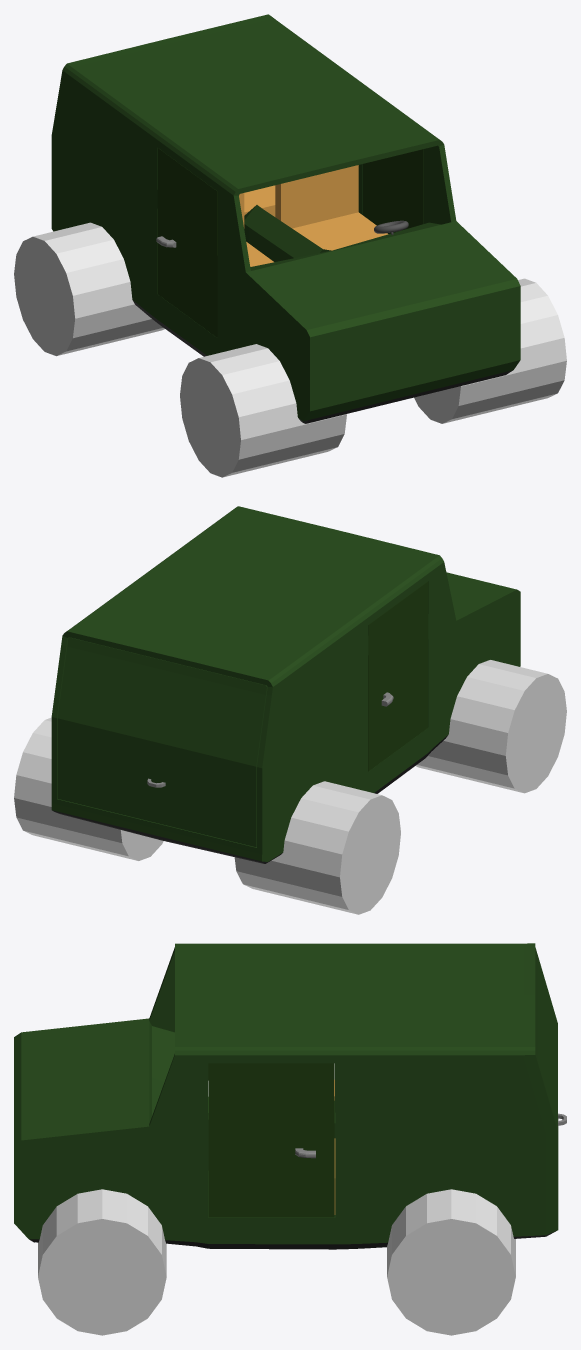
Rendered from GrayboxCar.fbx.
The picture shows the model from 3 angles, top to bottom: view 1: azimuth 30°, elevation 25°; view 2: azimuth 150°, elevation 25°; view 3: azimuth 270°, elevation 25°; orthographic projection. The views are drawn at different scales.
Parts seen in each view (by area): view 1: Car, DoorGapRight, DoorRight, DoorGapLeft, DoorLeft; view 2: Car, Trunk, DoorGapRight, DoorRight, DoorGapLeft; view 3: Car, DoorGapLeft, DoorLeft, Trunk.
Part boxes in pixels (<box>): Car: <box>51,14,520,423</box>; DoorGapRight: <box>14,222,346,477</box>; DoorRight: <box>156,148,217,337</box>; DoorGapLeft: <box>414,278,566,423</box>; DoorLeft: <box>363,149,423,233</box>; Car: <box>51,506,520,863</box>; Trunk: <box>57,637,267,846</box>; DoorGapRight: <box>234,660,566,914</box>; DoorRight: <box>368,581,428,771</box>; DoorGapLeft: <box>14,717,163,860</box>; Car: <box>14,943,558,1249</box>; DoorGapLeft: <box>38,1189,515,1335</box>; DoorLeft: <box>208,1063,334,1217</box>; Trunk: <box>535,952,566,1127</box>.
Bounding box in the file's own units: 326 × 234 × 455.
